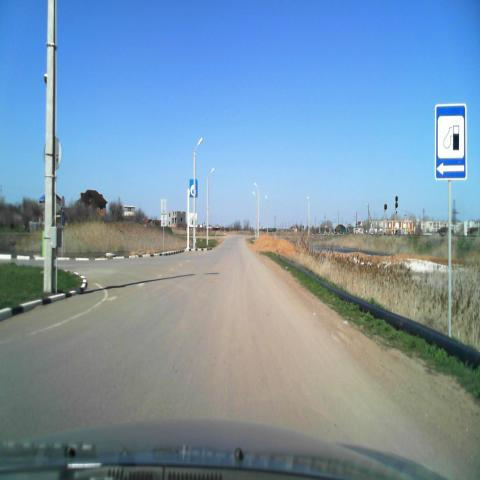7_3: (436, 103, 467, 180)
